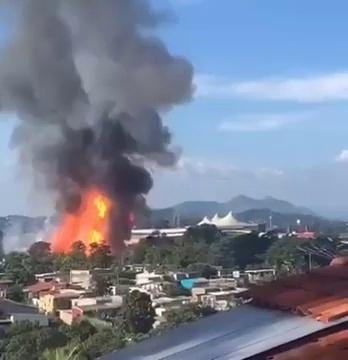fire: (48, 208, 125, 245)
smoke: (15, 22, 189, 144)
